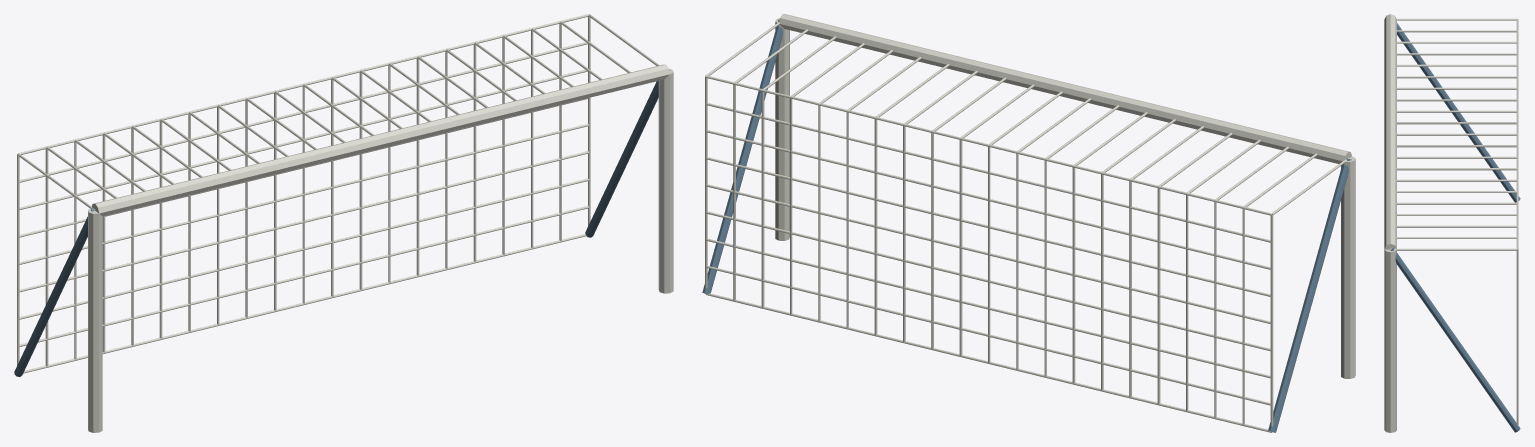
Rendered from goal.glb.
3 views of the same model, side by side, from view 1: azimuth 30°, elevation 25°; view 2: azimuth 150°, elevation 25°; view 3: azimuth 270°, elevation 25° (orthographic). The views are drawn at different scales.
Visible parts, largest first — view 1: Cilindro; view 2: Cilindro; view 3: Cilindro.
Boxes of the visible parts, bbox=[...] form: Cilindro: bbox=[14, 14, 673, 432]; Cilindro: bbox=[702, 14, 1355, 432]; Cilindro: bbox=[1384, 14, 1520, 432].
Bounding box in the file's own units: 6.14 × 2.29 × 1.5.
